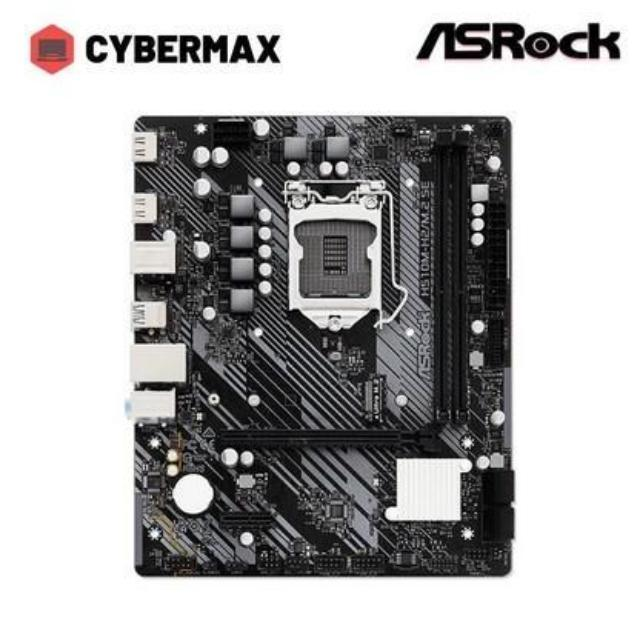Mainboard: (124, 109, 524, 586)
